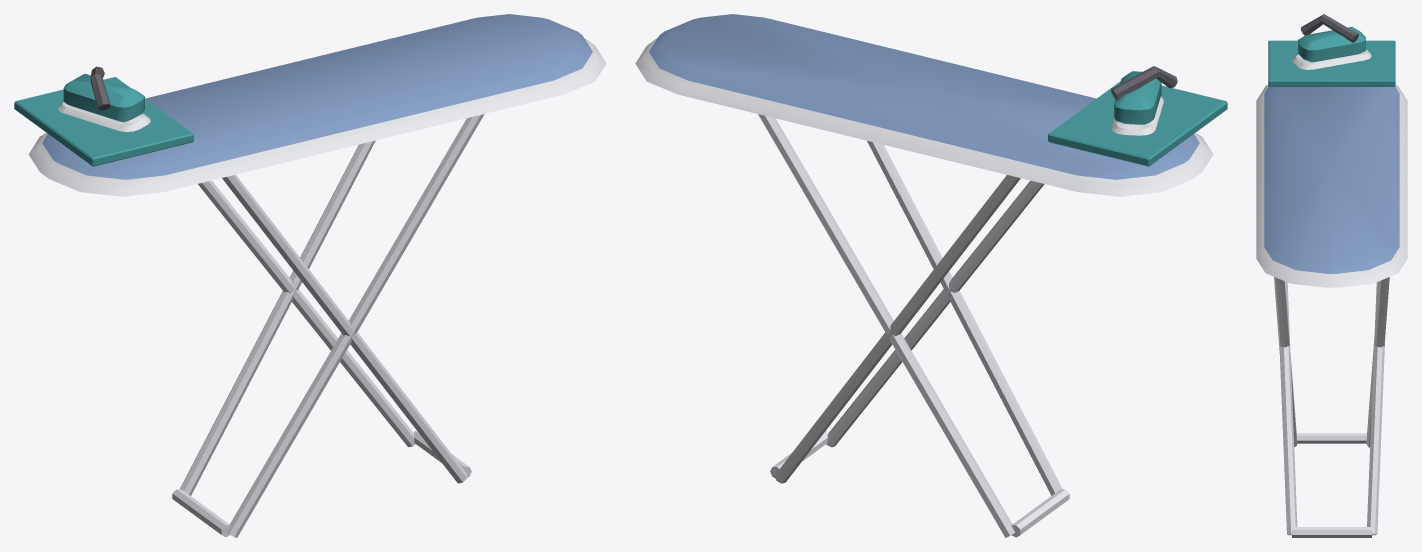
The model's file is dry-cleaners-and-alterations-shop-ironing-board-c63d10d6__34976.glb.
3 renders of one model, left to right at view 1: azimuth 30°, elevation 25°; view 2: azimuth 150°, elevation 25°; view 3: azimuth 270°, elevation 25°, orthographic. The views are drawn at different scales.
Visible parts, largest first — view 1: ironing-board; view 2: ironing-board; view 3: ironing-board.
Boxes of the visible parts, x1=… form: ironing-board: x1=14, y1=14, x2=606, y2=537; ironing-board: x1=635, y1=14, x2=1227, y2=537; ironing-board: x1=1256, y1=14, x2=1407, y2=537.
Bounding box in the file's own units: 1.28 × 1.07 × 0.3801.
